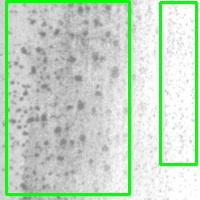pitted_surface: (6, 1, 129, 194), (160, 2, 196, 164)
